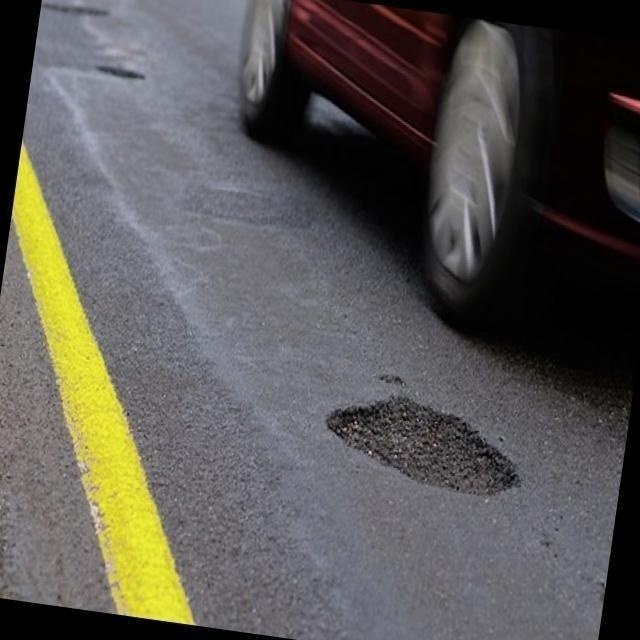pothole: (321, 371, 534, 518), (88, 48, 146, 92)
